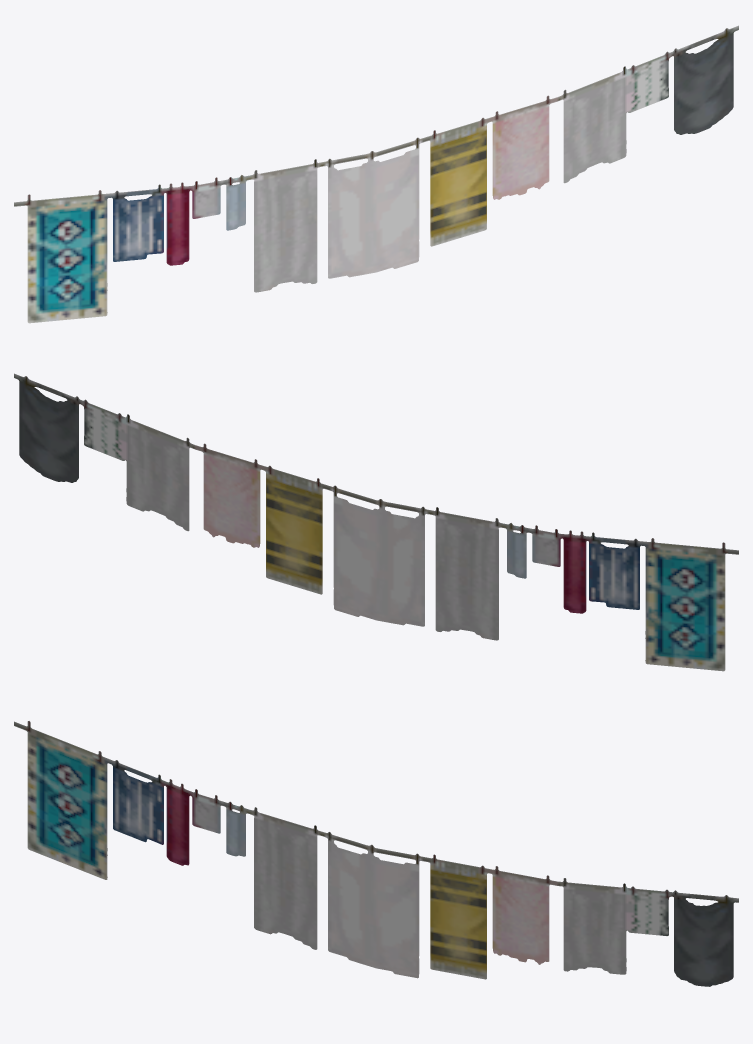
File: WashingLine_Short02.glb
3 views of the same model, one above another, from view 1: azimuth 30°, elevation 25°; view 2: azimuth 150°, elevation 25°; view 3: azimuth 330°, elevation 25° (orthographic).
Visible parts, largest first — view 1: WASHINGLINE_SHORT02; view 2: WASHINGLINE_SHORT02; view 3: WASHINGLINE_SHORT02.
Part boxes in pixels (x1,y1,x2,y2): WASHINGLINE_SHORT02: (14,25,738,323); WASHINGLINE_SHORT02: (14,373,738,671); WASHINGLINE_SHORT02: (14,721,738,986).
Bounding box in the file's own units: 8 × 1.9 × 0.
1 material, 1 textured.
